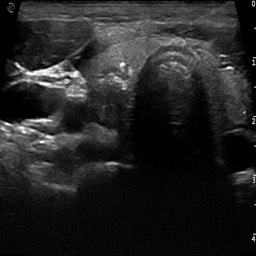mass: (90, 77, 125, 128)
